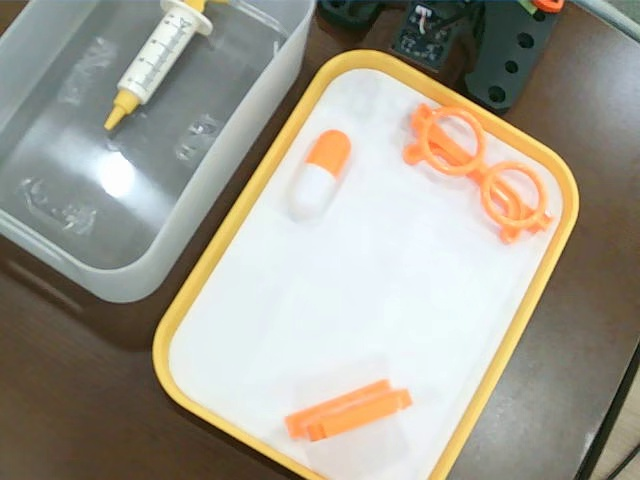pill: (289, 128, 352, 220)
syringe: (103, 0, 229, 132)
